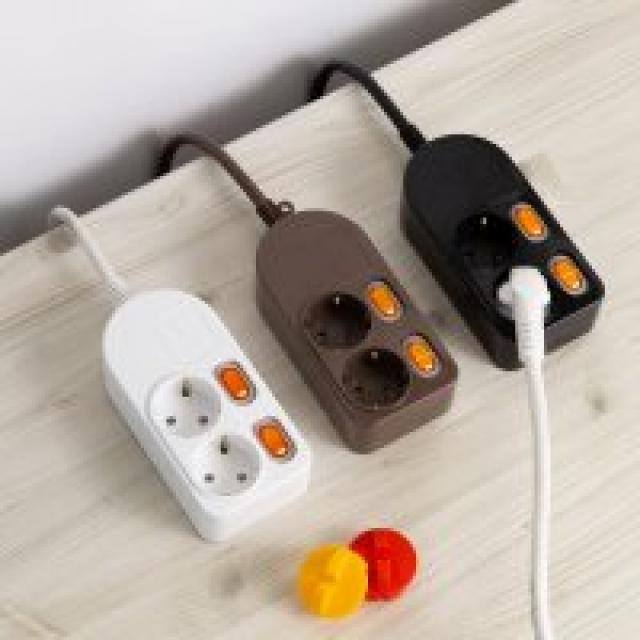typeb: (97, 299, 295, 540), (243, 207, 458, 427), (397, 127, 616, 326)
